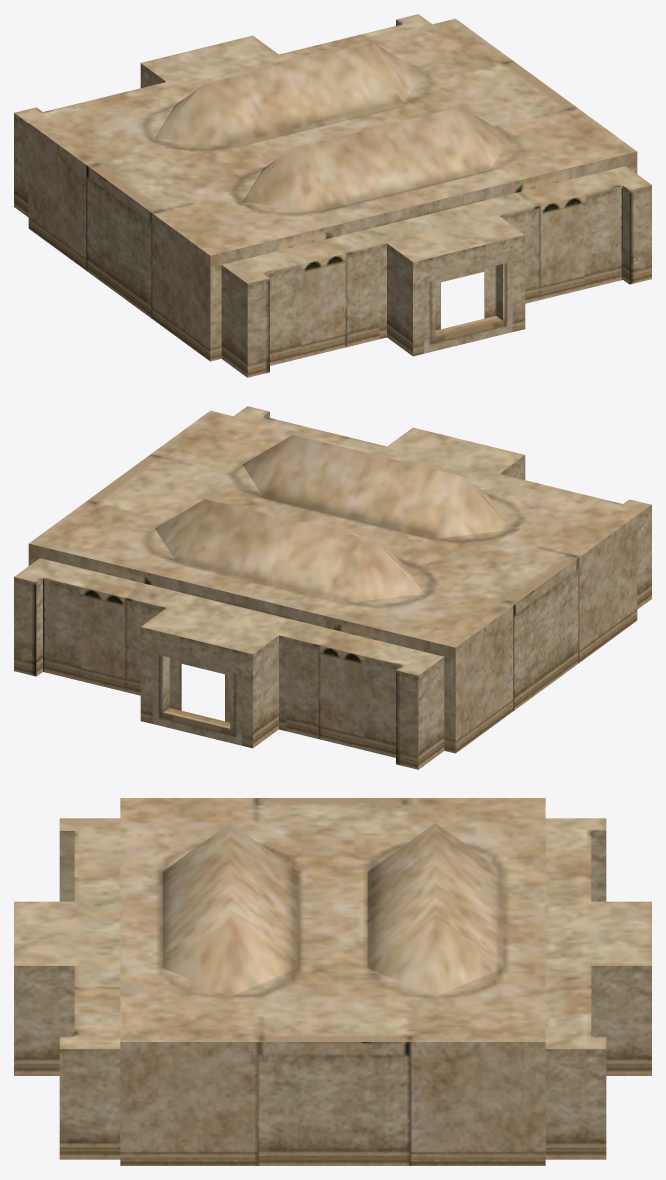
The model's file is mun_tato_hospital_s02_r0_mesh_l3.fbx.
3 renders of one model, top to bottom at view 1: azimuth 30°, elevation 25°; view 2: azimuth 150°, elevation 25°; view 3: azimuth 270°, elevation 25°, orthographic. The views are drawn at different scales.
Visible parts, largest first — view 1: mesh_node; view 2: mesh_node; view 3: mesh_node.
Boxes of the visible parts, x1=… form: mesh_node: x1=14, y1=14, x2=651, y2=377; mesh_node: x1=14, y1=406, x2=651, y2=769; mesh_node: x1=14, y1=798, x2=651, y2=1165.
Bounding box in the file's own units: 38 × 12.56 × 42.
1 material, 1 textured.
